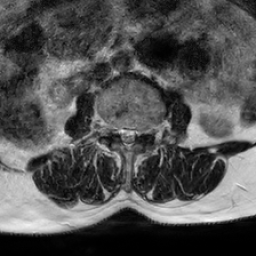CCS_normal: (123, 118, 131, 154)
LFS_severe_stenosis: (138, 120, 146, 142)
LLS_stenosis: (131, 120, 138, 149)
RFS_normal: (109, 117, 116, 142)
RLS_normal: (116, 118, 123, 147)
